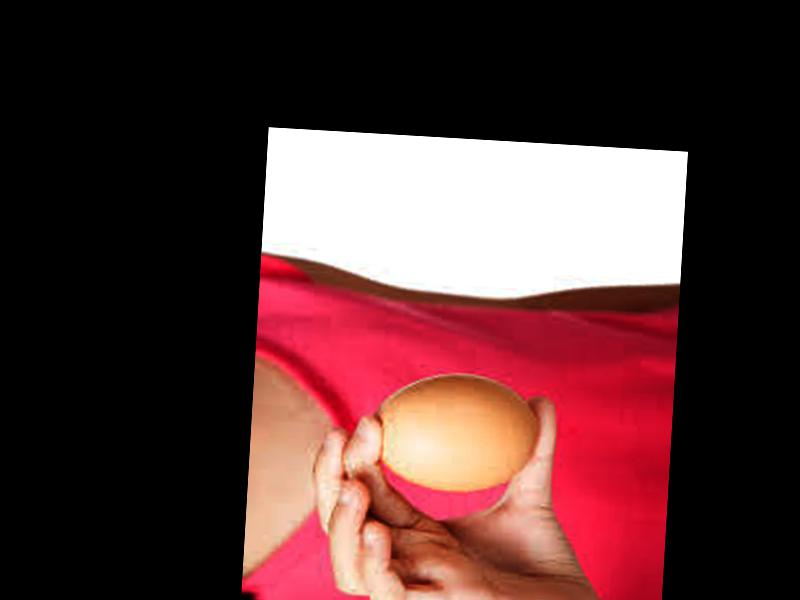Eggs: (367, 370, 539, 495)
